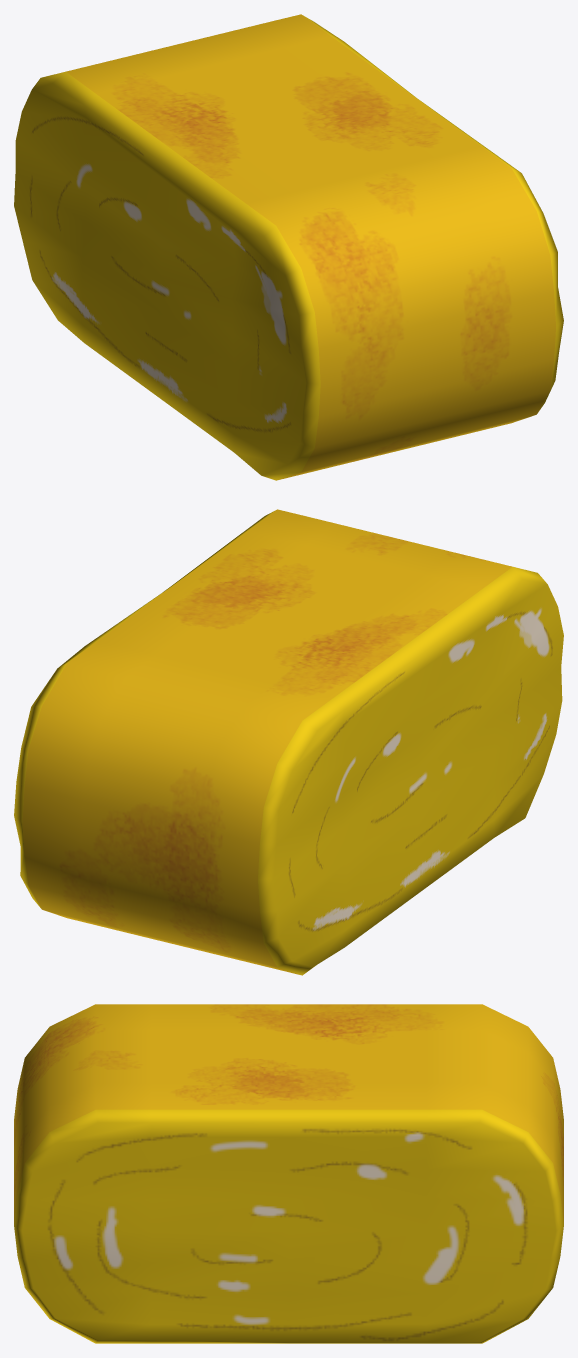
File: Tamago.fbx
The picture shows the model from 3 angles, top to bottom: view 1: azimuth 30°, elevation 25°; view 2: azimuth 150°, elevation 25°; view 3: azimuth 270°, elevation 25°; orthographic projection. The views are drawn at different scales.
Visible parts, largest first — view 1: Tamago; view 2: Tamago; view 3: Tamago.
Part boxes in pixels (bbox=[...]): Tamago: bbox=[14, 14, 563, 480]; Tamago: bbox=[14, 509, 563, 975]; Tamago: bbox=[14, 1004, 563, 1343].
Bounding box in the file's own units: 148 × 136 × 290.
Materials: 1 (1 with a texture image).
